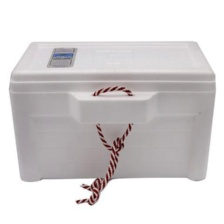foam_box: (5, 34, 221, 207)
